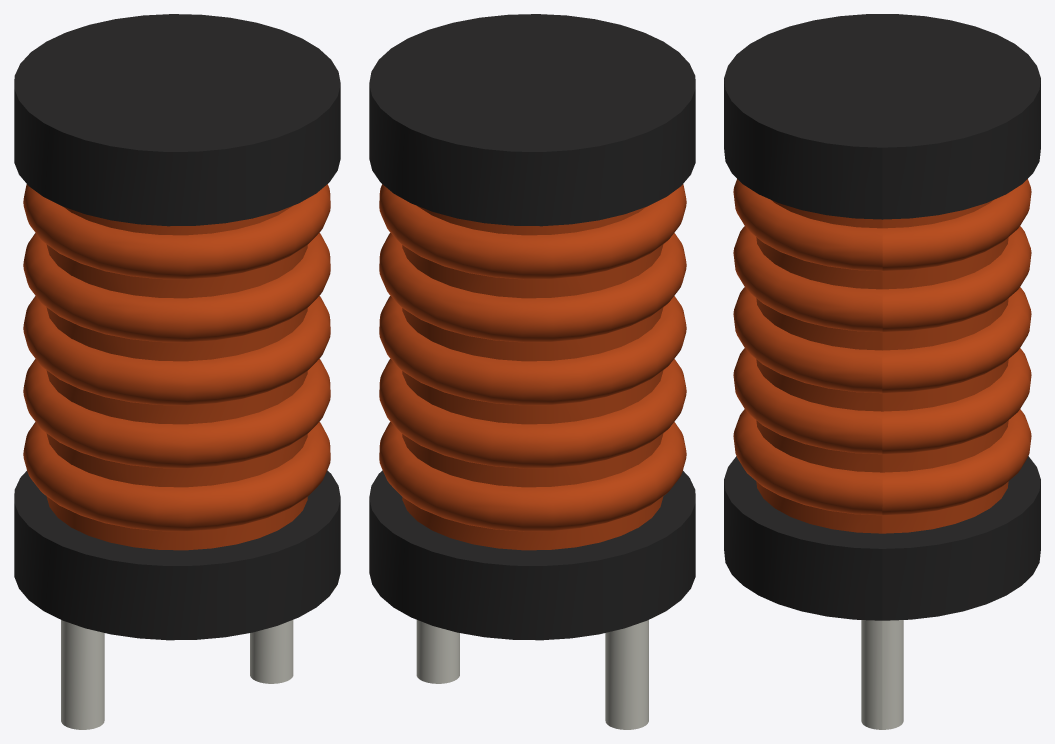
Rendered from kc-l_radial_d7.5mm_p5.00mm_fastron_07p.glb.
3 views of the same model, side by side, from view 1: azimuth 30°, elevation 25°; view 2: azimuth 150°, elevation 25°; view 3: azimuth 270°, elevation 25° (orthographic). The views are drawn at different scales.
Visible parts, largest first — view 1: 0.4166666666666667_0.08333333333333333_0_0, 0_0_0_0, 0.6666666666666666_0.6666666666666666_0.5833333333333334_0.8; view 2: 0.4166666666666667_0.08333333333333333_0_0, 0_0_0_0, 0.6666666666666666_0.6666666666666666_0.5833333333333334_0.8; view 3: 0.4166666666666667_0.08333333333333333_0_0, 0_0_0_0, 0.6666666666666666_0.6666666666666666_0.5833333333333334_0.8.
Boxes of the visible parts, x1,y1,x2,y2 form: 0.4166666666666667_0.08333333333333333_0_0: (23,184,330,550); 0_0_0_0: (14,14,340,640); 0.6666666666666666_0.6666666666666666_0.5833333333333334_0.8: (61,620,293,729); 0.4166666666666667_0.08333333333333333_0_0: (379,184,686,550); 0_0_0_0: (369,14,695,640); 0.6666666666666666_0.6666666666666666_0.5833333333333334_0.8: (416,620,648,729); 0.4166666666666667_0.08333333333333333_0_0: (733,179,1031,533); 0_0_0_0: (724,14,1040,620); 0.6666666666666666_0.6666666666666666_0.5833333333333334_0.8: (861,620,903,729).
Bounding box in the file's own units: 0.7485 × 1.56 × 0.7493.
